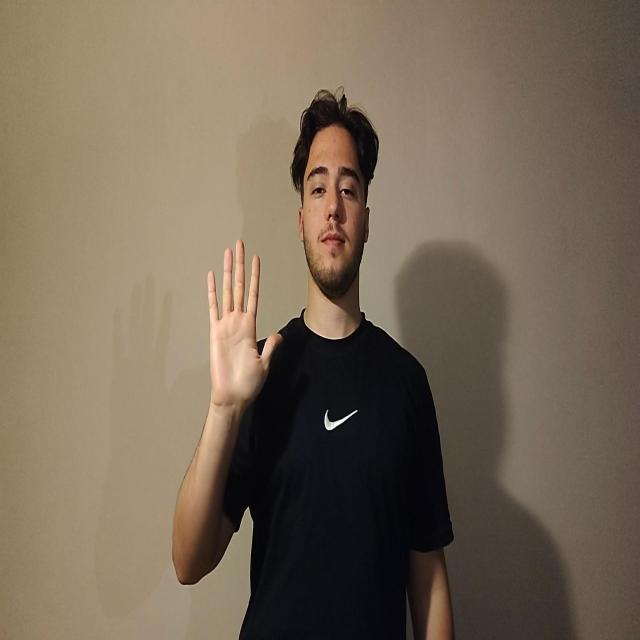hello: (206, 238, 283, 412)
